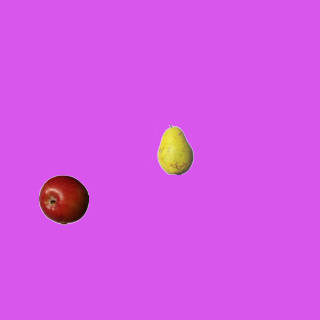Apple Braeburn: (38, 174, 88, 224)
Pear Monster: (150, 124, 200, 174)
